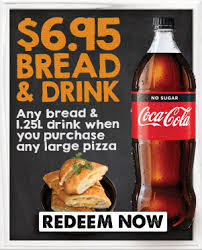coke: (129, 15, 196, 225)
